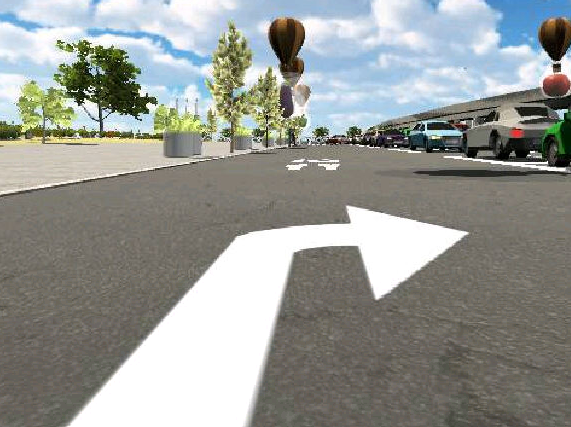ground_right: (195, 204, 469, 303)
